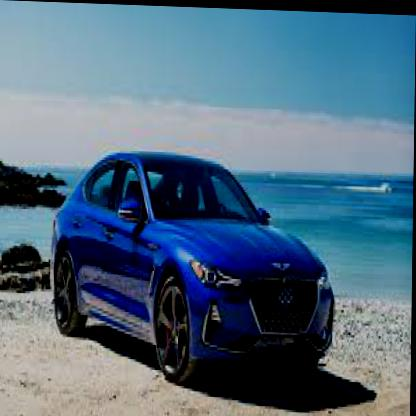Car: (50, 147, 338, 389)
